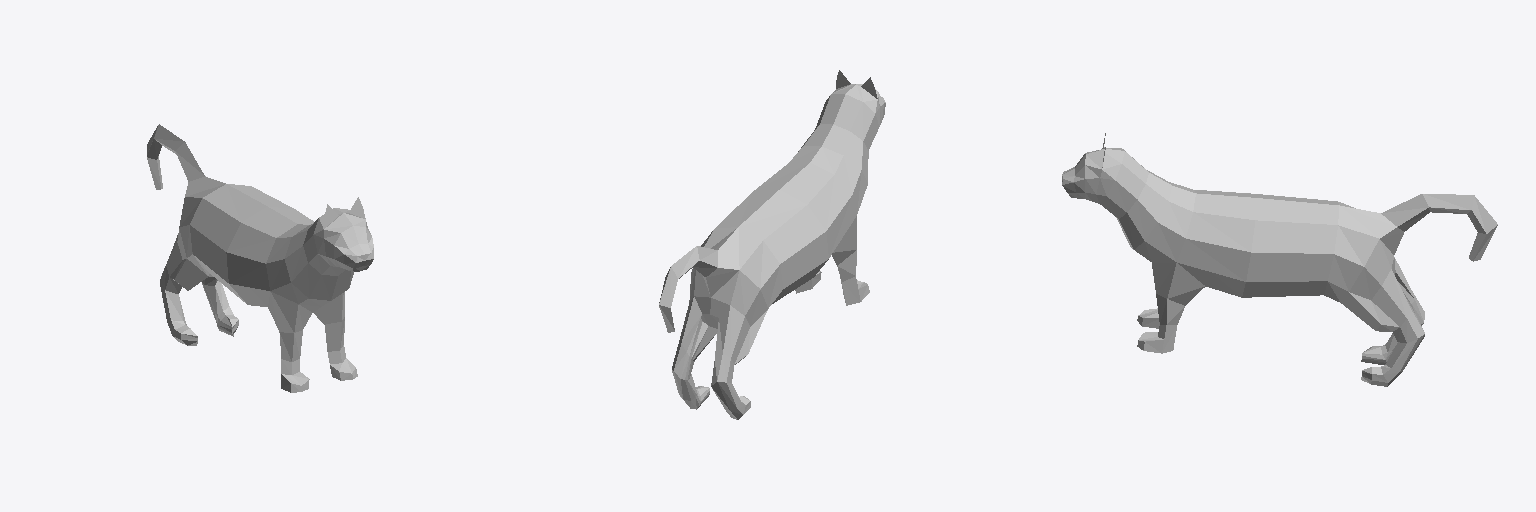
File: cat.obj
3 views of the same model, side by side, from view 1: azimuth 30°, elevation 25°; view 2: azimuth 150°, elevation 25°; view 3: azimuth 270°, elevation 25° (orthographic).
Parts seen in each view (by area): view 1: Cylinder; view 2: Cylinder; view 3: Cylinder.
Boxes of the visible parts, box(x1,y1,x2,y2) form: Cylinder: box(147, 124, 373, 392); Cylinder: box(659, 70, 885, 419); Cylinder: box(1062, 133, 1497, 386).
Size of the model in its own units: 0.2351 by 0.6092 by 1.01.